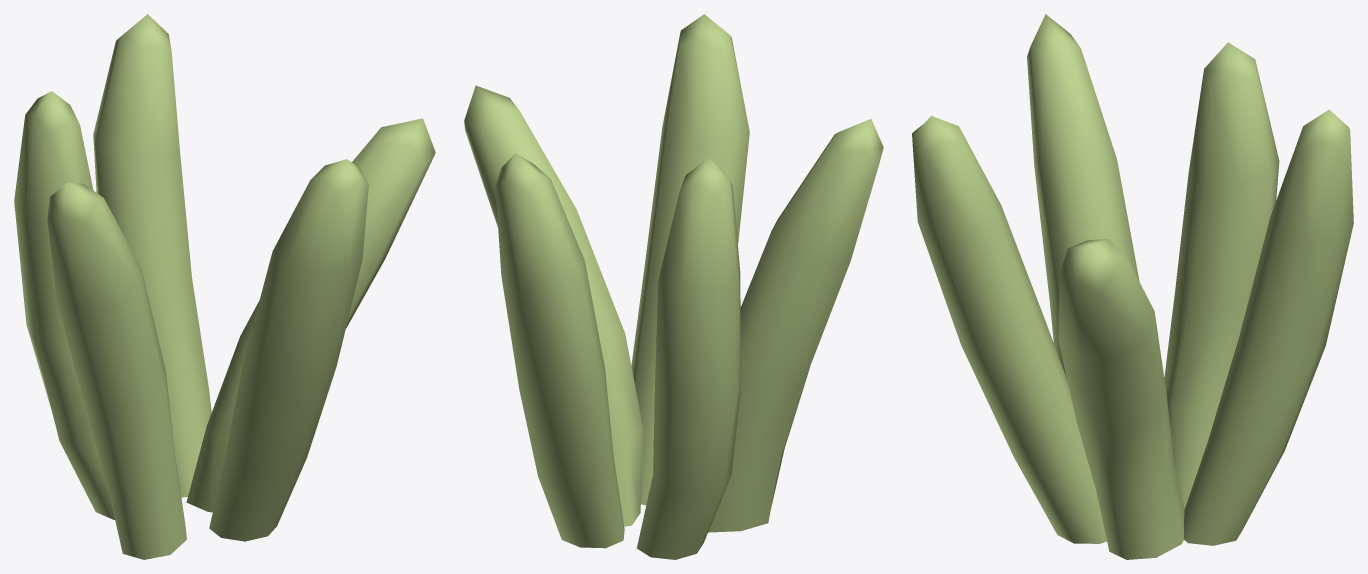
Rendered from Grass_02.fbx.
3 renders of one model, left to right at view 1: azimuth 30°, elevation 25°; view 2: azimuth 150°, elevation 25°; view 3: azimuth 270°, elevation 25°, orthographic. The views are drawn at different scales.
Parts seen in each view (by area): view 1: polySurface1003; view 2: polySurface1003; view 3: polySurface1003.
Boxes of the visible parts, x1,y1,x2,y2 form: polySurface1003: (14, 14, 435, 559); polySurface1003: (464, 14, 883, 559); polySurface1003: (912, 14, 1353, 559).
Bounding box in the file's own units: 31.65 × 32.19 × 29.84.
